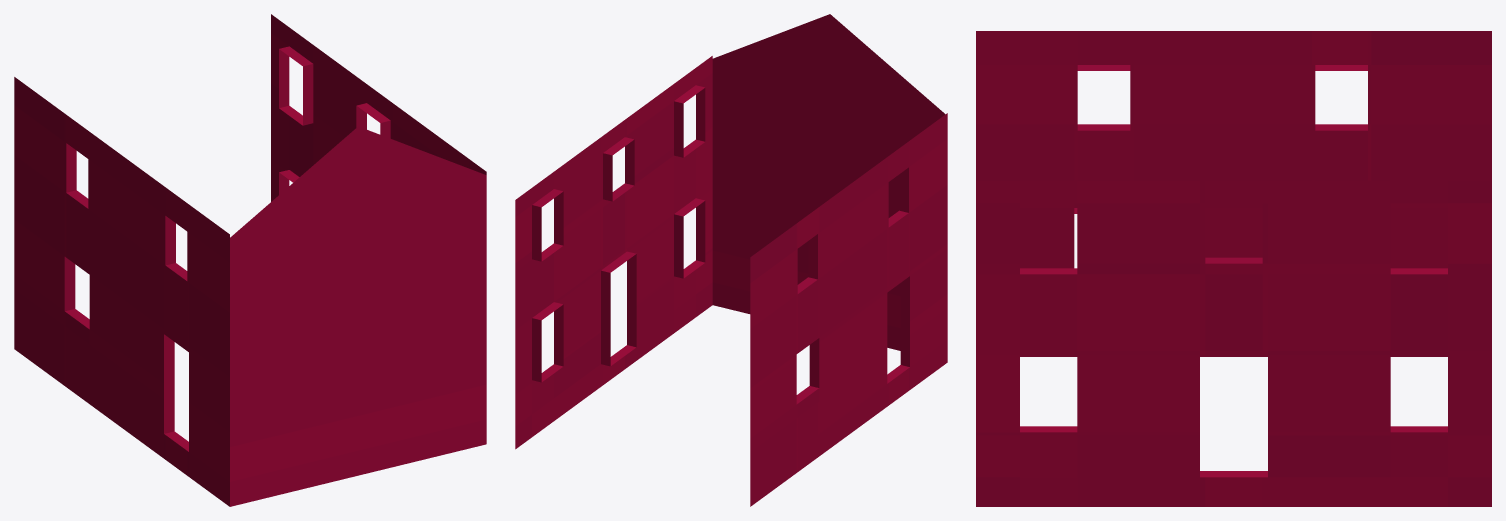
Rendered from SM_Bld_104_Masonry.glb.
3 views of the same model, side by side, from view 1: azimuth 30°, elevation 25°; view 2: azimuth 150°, elevation 25°; view 3: azimuth 270°, elevation 25° (orthographic). The views are drawn at different scales.
Visible parts, largest first — view 1: SM_Bld_104_Masonry; view 2: SM_Bld_104_Masonry; view 3: SM_Bld_104_Masonry.
Part boxes in pixels (box(x1,y1,x2,y2)): SM_Bld_104_Masonry: box(14, 14, 486, 506); SM_Bld_104_Masonry: box(515, 14, 947, 506); SM_Bld_104_Masonry: box(976, 31, 1491, 506).
Bounding box in the file's own units: 5.39 × 7.01 × 7.84.
